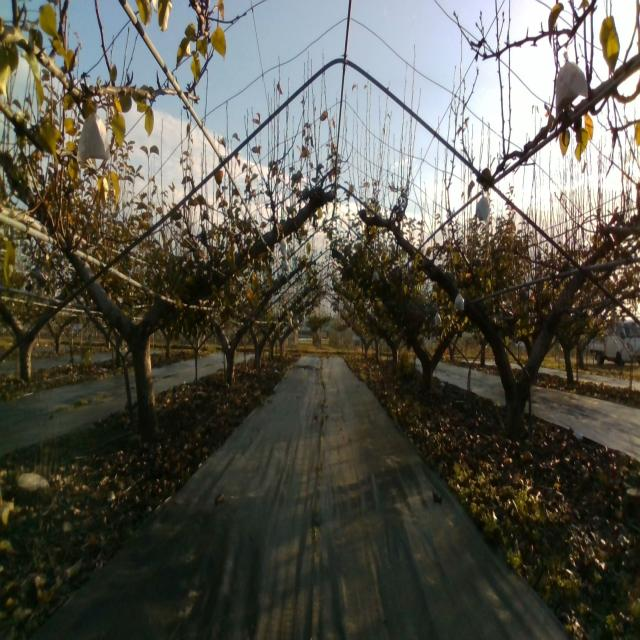pearbags: (555, 51, 589, 118), (75, 111, 110, 162), (475, 191, 491, 223), (453, 290, 465, 311)
